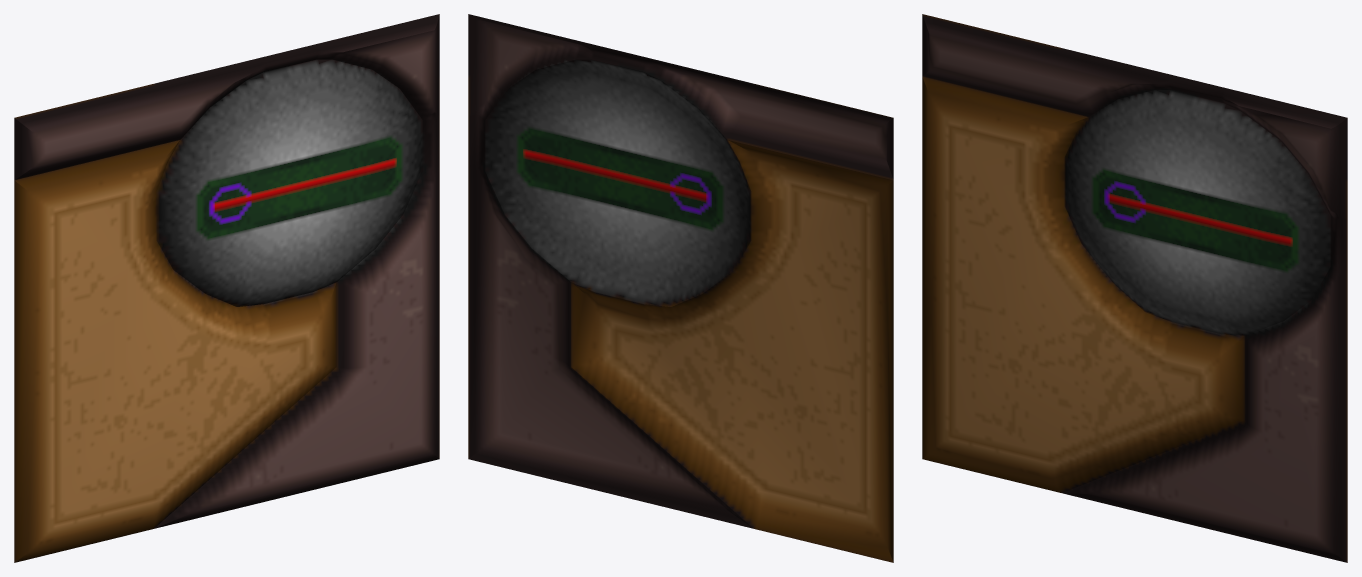
File: exec4_4.fbx
3 views of the same model, side by side, from view 1: azimuth 30°, elevation 25°; view 2: azimuth 150°, elevation 25°; view 3: azimuth 330°, elevation 25° (orthographic).
Visible parts, largest first — view 1: exec4_4; view 2: exec4_4; view 3: exec4_4.
Boxes of the visible parts, <box> form: exec4_4: <box>14,14,439,562</box>; exec4_4: <box>468,14,893,562</box>; exec4_4: <box>922,14,1347,562</box>.
Bounding box in the file's own units: 256 × 256 × 7.02.
